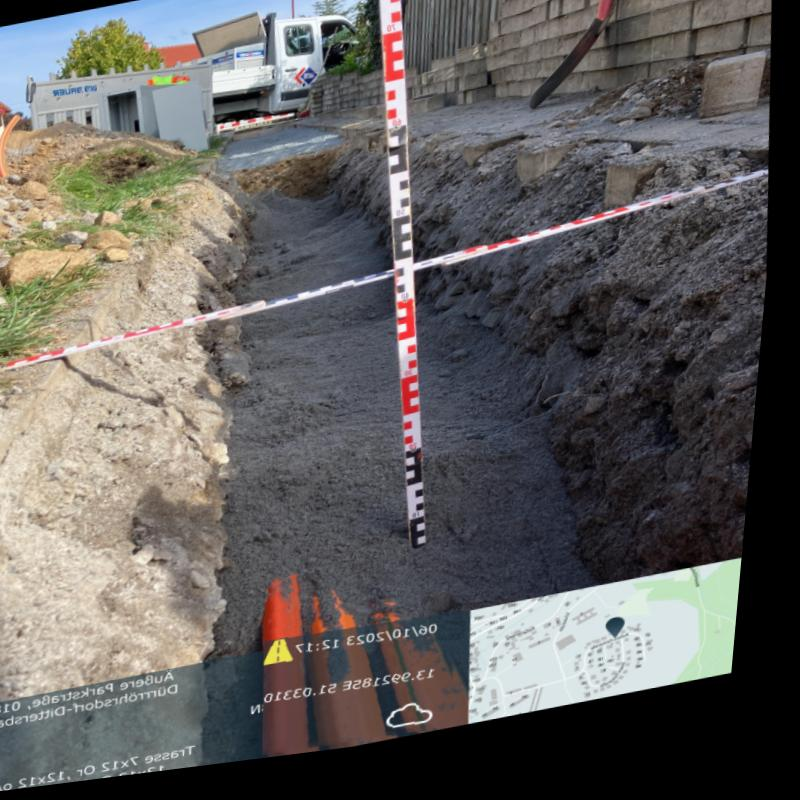Orang-Speednetrohrchen: (277, 583, 467, 766)
